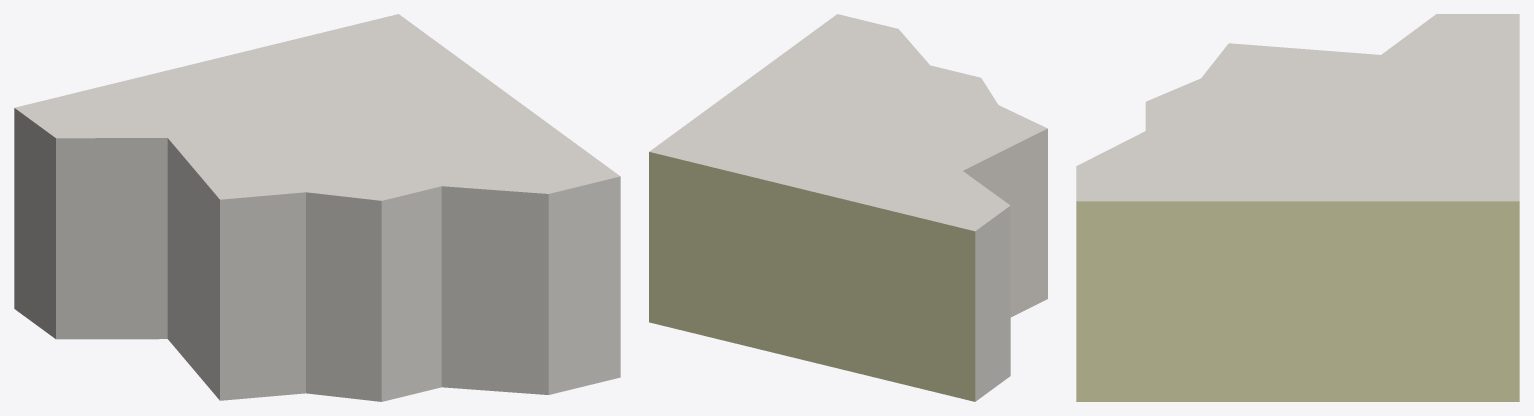
The model's file is Cracked_Curve_Outer_3x3_2_Mid.glb.
3 views of the same model, side by side, from view 1: azimuth 30°, elevation 25°; view 2: azimuth 150°, elevation 25°; view 3: azimuth 270°, elevation 25° (orthographic). The views are drawn at different scales.
Visible parts, largest first — view 1: Cracked_Curve_Outer_3x3_2_Mid; view 2: Cracked_Curve_Outer_3x3_2_Mid; view 3: Cracked_Curve_Outer_3x3_2_Mid.
Part boxes in pixels (x1,y1,x2,y2): Cracked_Curve_Outer_3x3_2_Mid: [14, 14, 620, 401]; Cracked_Curve_Outer_3x3_2_Mid: [649, 14, 1047, 401]; Cracked_Curve_Outer_3x3_2_Mid: [1076, 14, 1519, 401].
Size of the model in its own units: 200 by 100 by 200.
